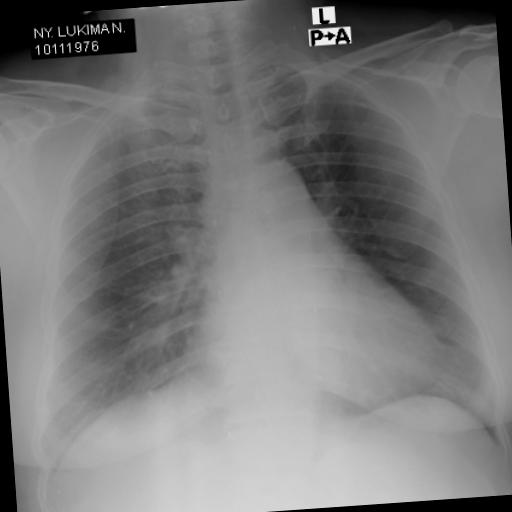kardiomegali: (11, 38, 512, 503)
